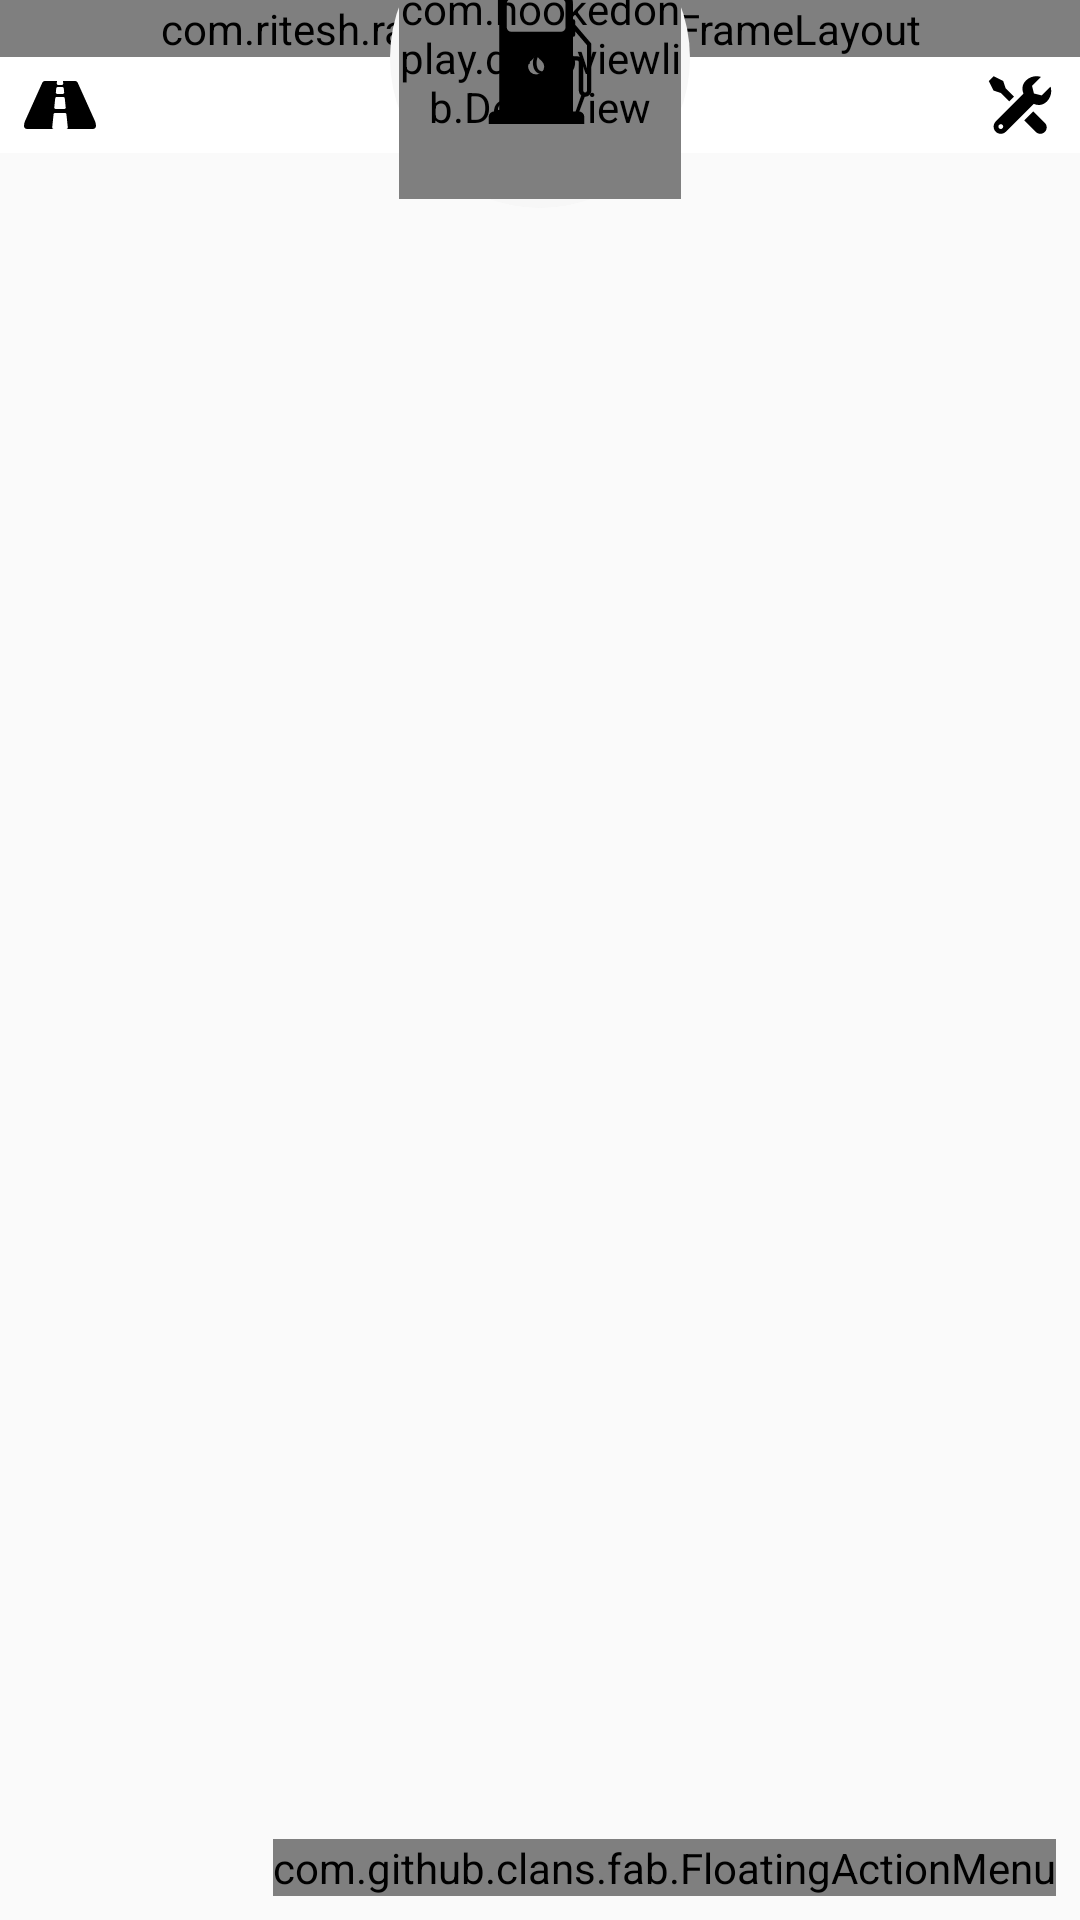

Named icons in this screenshot (1080w x 1920h) and their centers, (x,y):
maintenance: (1020,105)
road: (60,105)
